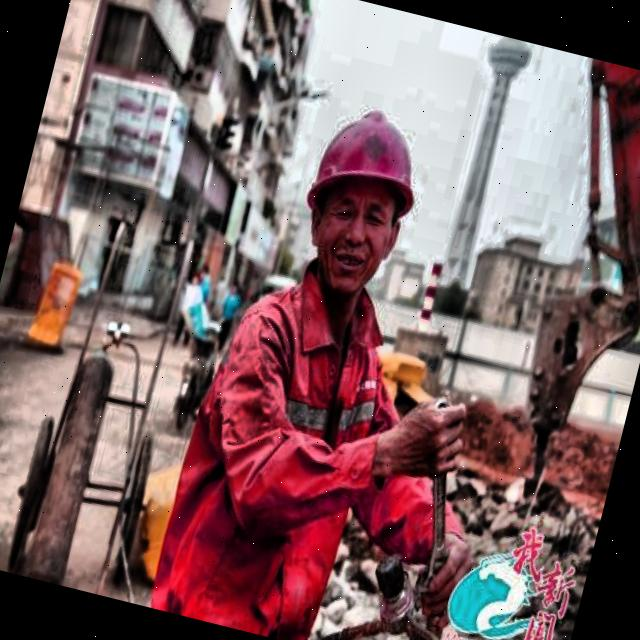helmet: (271, 82, 450, 314)
